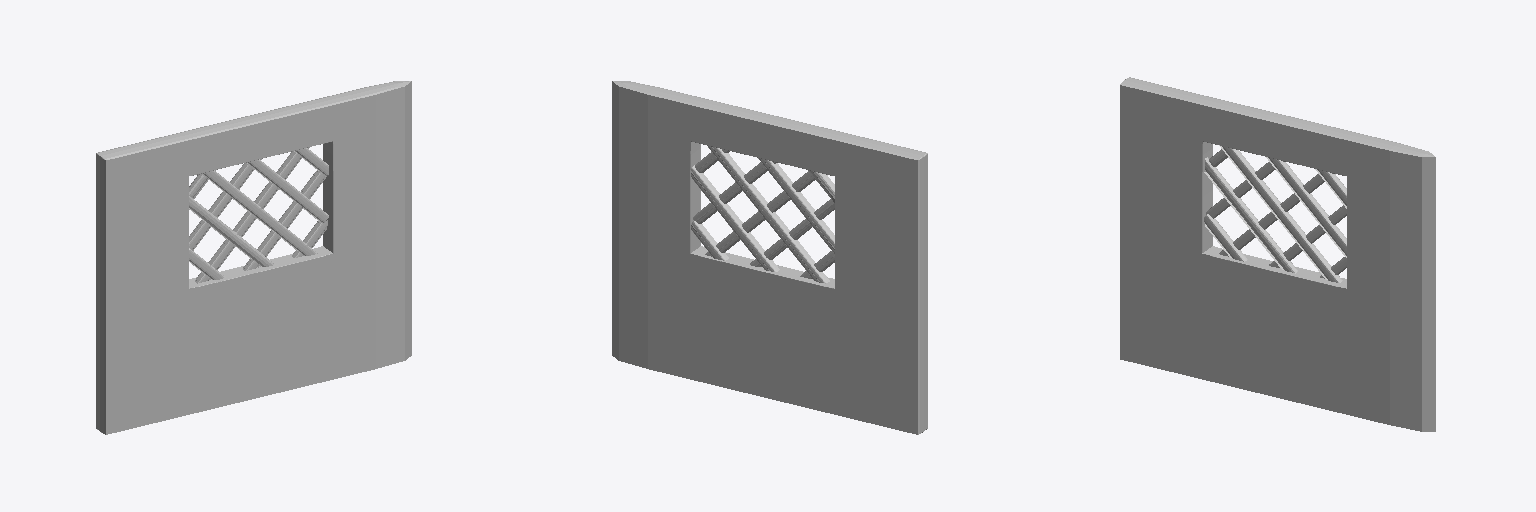
File: frontWallHP.obj
The picture shows the model from 3 angles: view 1: azimuth 30°, elevation 25°; view 2: azimuth 150°, elevation 25°; view 3: azimuth 330°, elevation 25°; orthographic projection.
Visible parts, largest first — view 1: pCube62, group29 SidePanels pCube188, group29 SidePanels pCube190, group29 SidePanels pCube185, group29 SidePanels pCube186, group29 SidePanels pCube191, group29 SidePanels pCube187; view 2: pCube62, group29 SidePanels pCube185, group29 SidePanels pCube191, group29 SidePanels pCube187, group29 SidePanels pCube188, group29 SidePanels pCube186; view 3: pCube62, group29 SidePanels pCube188, group29 SidePanels pCube190, group29 SidePanels pCube186, group29 SidePanels pCube185, group29 SidePanels pCube191, group29 SidePanels pCube187, group29 SidePanels pCube193.
Part boxes in pixels (bbox=[...]): pCube62: bbox=[96, 81, 411, 434]; group29 SidePanels pCube188: bbox=[202, 170, 316, 255]; group29 SidePanels pCube190: bbox=[189, 196, 273, 266]; group29 SidePanels pCube185: bbox=[195, 147, 308, 282]; group29 SidePanels pCube186: bbox=[247, 159, 328, 222]; group29 SidePanels pCube191: bbox=[243, 170, 325, 270]; group29 SidePanels pCube187: bbox=[189, 159, 260, 249]; pCube62: bbox=[612, 81, 927, 434]; group29 SidePanels pCube185: bbox=[707, 145, 827, 283]; group29 SidePanels pCube191: bbox=[691, 167, 777, 271]; group29 SidePanels pCube187: bbox=[758, 158, 834, 253]; group29 SidePanels pCube188: bbox=[705, 171, 814, 255]; group29 SidePanels pCube186: bbox=[693, 161, 776, 223]; pCube62: bbox=[1120, 77, 1435, 431]; group29 SidePanels pCube188: bbox=[1222, 146, 1342, 282]; group29 SidePanels pCube190: bbox=[1205, 157, 1297, 272]; group29 SidePanels pCube186: bbox=[1268, 157, 1346, 255]; group29 SidePanels pCube185: bbox=[1219, 173, 1333, 256]; group29 SidePanels pCube191: bbox=[1269, 205, 1346, 267]; group29 SidePanels pCube187: bbox=[1206, 161, 1284, 218]; group29 SidePanels pCube193: bbox=[1204, 214, 1247, 261].
Bounding box in the file's own units: 7.19 × 6.07 × 0.4116.